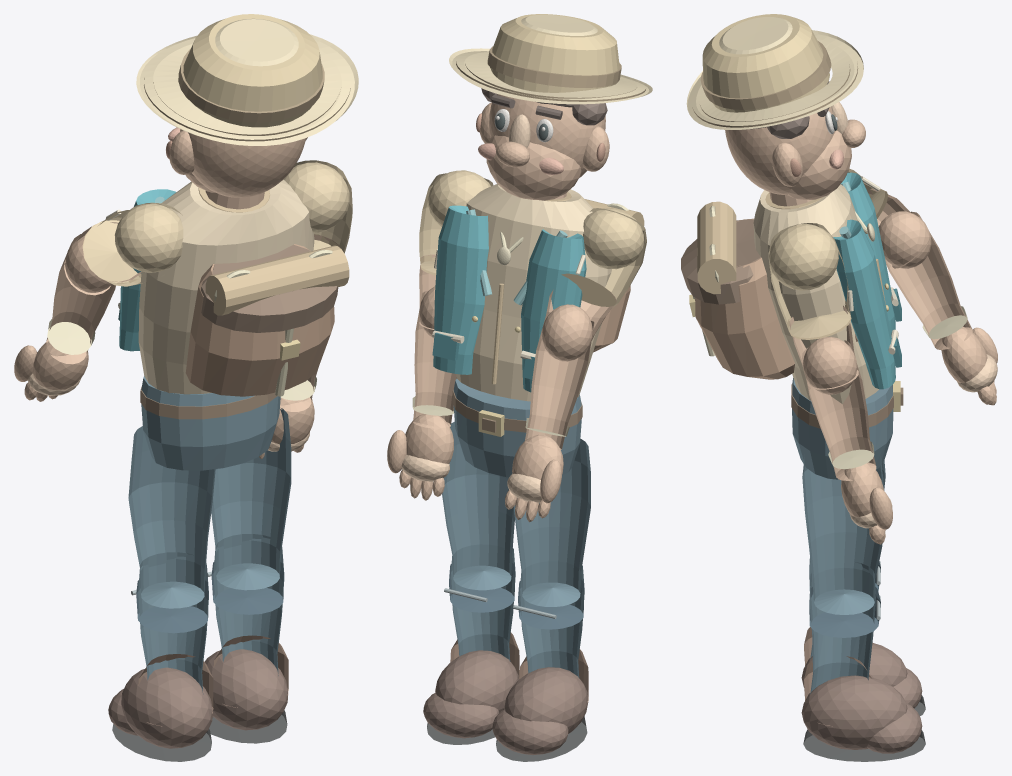
Rendered from A06_collect_weighted_pose_diagnostic.glb.
The picture shows the model from 3 angles, left to right: view 1: azimuth 30°, elevation 25°; view 2: azimuth 150°, elevation 25°; view 3: azimuth 270°, elevation 25°; orthographic projection. The views are drawn at different scales.
Parts seen in each view (by area): view 1: world; view 2: world; view 3: world.
Boxes of the visible parts, x1,y1,x2,y2 form: world: [14, 14, 358, 761]; world: [387, 14, 652, 761]; world: [681, 14, 997, 761].
Bounding box in the file's own units: 0.6338 × 1.86 × 0.7602.
